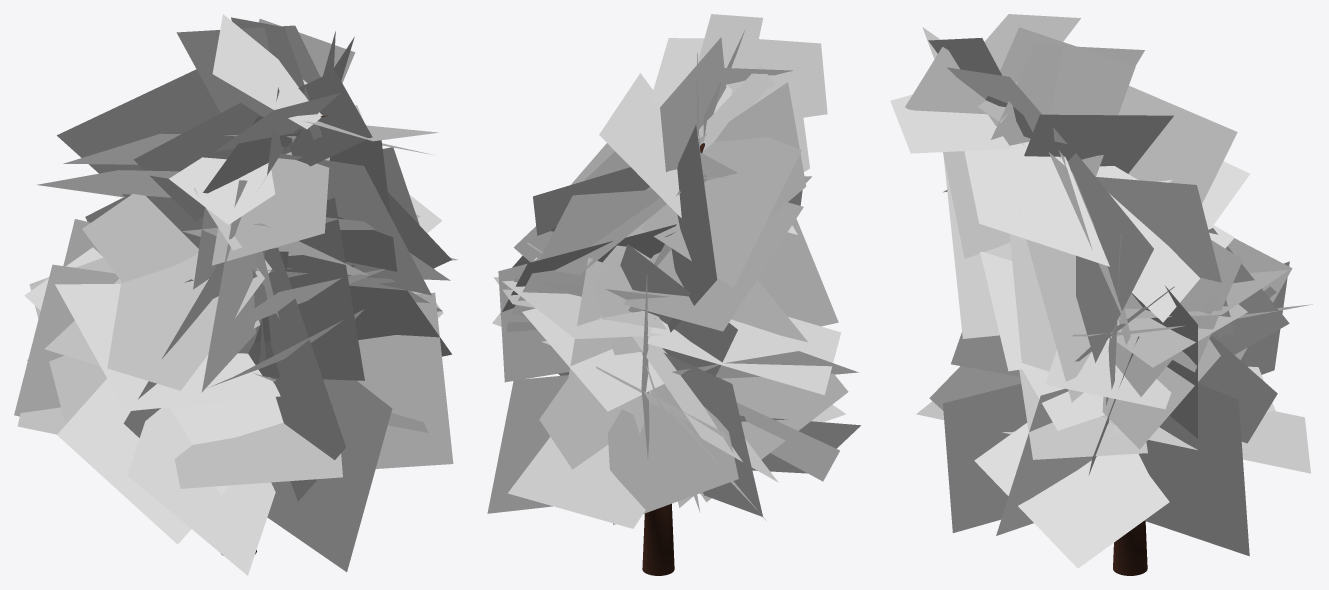
Rendered from Sapin.fbx.
The picture shows the model from 3 angles, left to right: view 1: azimuth 30°, elevation 25°; view 2: azimuth 150°, elevation 25°; view 3: azimuth 270°, elevation 25°; orthographic projection. The views are drawn at different scales.
Visible parts, largest first — view 1: Sapin Leaf; view 2: Sapin Leaf, Sapin tronc; view 3: Sapin Leaf, Sapin tronc.
Part boxes in pixels (x1=…): Sapin Leaf: x1=14, y1=14, x2=457, y2=575; Sapin Leaf: x1=487, y1=14, x2=860, y2=528; Sapin tronc: x1=642, y1=143, x2=704, y2=575; Sapin Leaf: x1=890, y1=14, x2=1312, y2=568; Sapin tronc: x1=1113, y1=520, x2=1147, y2=575.
Bounding box in the file's own units: 1656 × 2393 × 1707.
